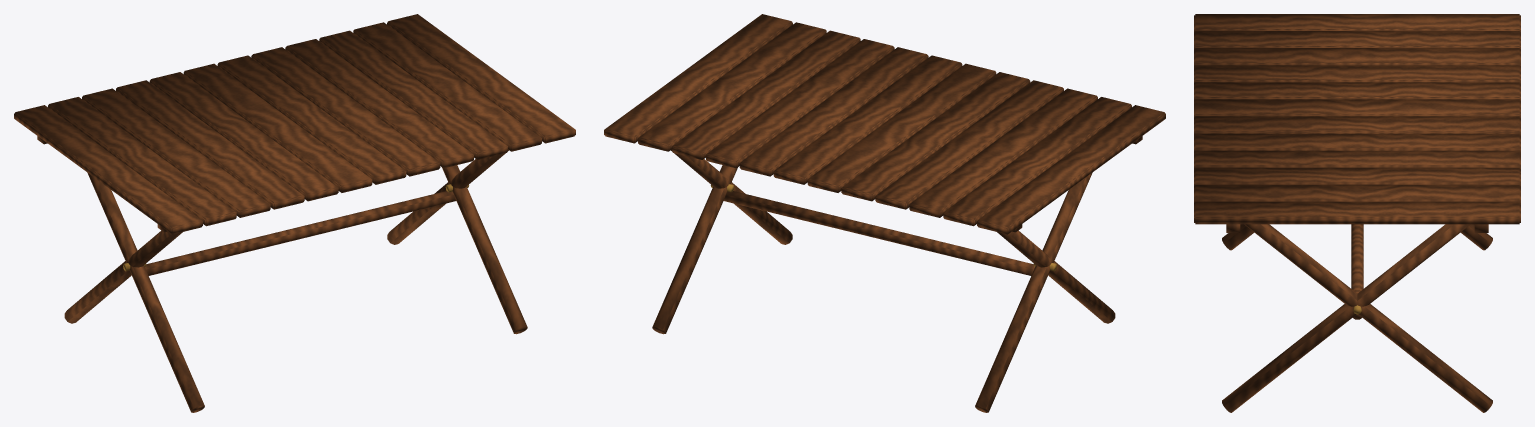
Rendered from camp_table.glb.
3 views of the same model, side by side, from view 1: azimuth 30°, elevation 25°; view 2: azimuth 150°, elevation 25°; view 3: azimuth 270°, elevation 25° (orthographic). The views are drawn at different scales.
Visible parts, largest first — view 1: RollTopTableWood; view 2: RollTopTableWood; view 3: RollTopTableWood.
Part boxes in pixels (x1=…): RollTopTableWood: x1=14, y1=14, x2=575, y2=412; RollTopTableWood: x1=604, y1=14, x2=1165, y2=412; RollTopTableWood: x1=1194, y1=14, x2=1520, y2=412.
Bounding box in the file's own units: 0.915 × 0.4498 × 0.62.
Materials: 2 (2 with a texture image).
